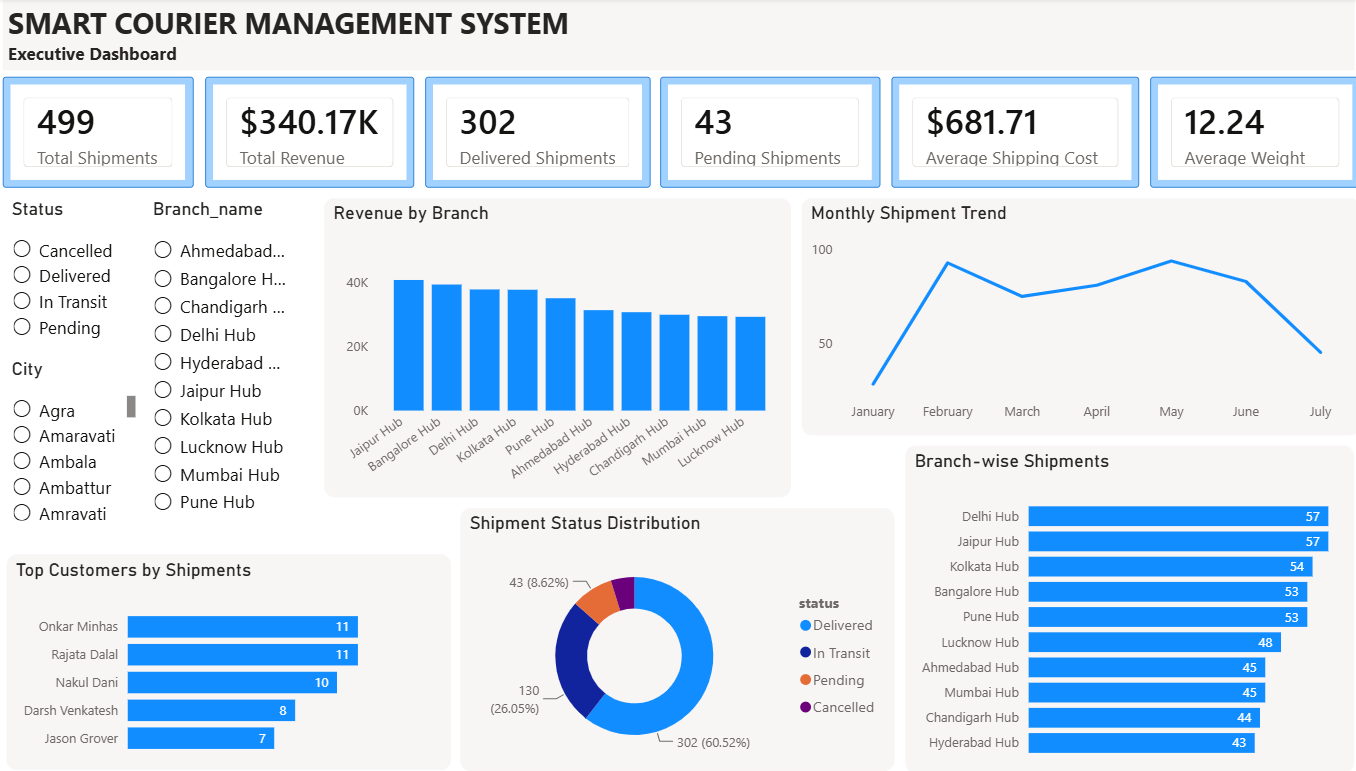

The dashboard page shown, as its layout file describes it:
{"tool":"powerbi","page":{"name":"Page 1","canvas":[1280,720],"ordinal":0},"visuals":[{"type":"cardVisual","fields":{"Data":["courierdb shipments.Total Shipments"]},"box":[17.8,70.2,195,101.8],"z":0},{"type":"cardVisual","fields":{"Data":["courierdb shipments.Total Revenue"]},"box":[219.3,71.6,194.3,98.9],"z":1000},{"type":"cardVisual","fields":{"Data":["courierdb shipments.Delivered Shipments"]},"box":[420.2,70.2,209.3,101.8],"z":2000},{"type":"cardVisual","fields":{"Data":["courierdb shipments.Pending Shipments"]},"box":[636,68.8,205,104.7],"z":3000},{"type":"cardVisual","fields":{"Data":["courierdb shipments.Average Shipping Cost"]},"box":[847.6,68.8,230.8,104.7],"z":4000},{"type":"cardVisual","fields":{"Data":["courierdb shipments.Average Weight"]},"box":[1085,68.8,195,104.7],"z":5000},{"type":"donutChart","title":"Shipment Status Distribution","fields":{"Category":["courierdb shipments.status"],"Y":["CountNonNull(courierdb shipments.shipment_id)"]},"box":[443,474.6,404.3,245.2],"z":6000},{"type":"clusteredBarChart","title":"Branch-wise Shipments","fields":{"Category":["courierdb branches.branch_name"],"Y":["CountNonNull(courierdb shipments.shipment_id)"]},"box":[856.7,425.9,417.5,294.4],"z":7000},{"type":"clusteredColumnChart","title":"Revenue by Branch","fields":{"Category":["courierdb branches.branch_name"],"Y":["Sum(courierdb shipments.shipping_cost)"]},"box":[316.1,185.8,434.4,278.7],"z":8000},{"type":"barChart","title":"Top Customers by Shipments","fields":{"Category":["courierdb customers.customer_name"],"Y":["CountNonNull(courierdb shipments.shipment_id)"]},"box":[20.5,526.1,413.9,193.1],"z":9000},{"type":"lineChart","title":"Monthly Shipment Trend","fields":{"Category":["courierdb shipments.booking_date.Variation.Date Hierarchy.Month"],"Y":["CountNonNull(courierdb shipments.shipment_id)"]},"box":[760.2,185.8,520.1,230.5],"z":10000},{"type":"listSlicer","title":"Status","fields":{"Values":["courierdb shipments.status"]},"box":[20.5,173.8,125.5,167.7],"z":11000},{"type":"listSlicer","title":"Branch_name","fields":{"Values":["courierdb branches.branch_name"]},"box":[152,173.8,150.8,343.9],"z":12000},{"type":"listSlicer","title":"City","fields":{"Values":["courierdb customers.city"]},"box":[20.5,351.1,125.5,166.5],"z":13000},{"type":"textbox","box":[16.9,0,1257.3,67.6],"z":14000}]}

Visuals, with their boxes in screenshot pixels (x1, y1, x2, y2), scaled from the page's 1280x720 canvas onto the 1356x771 screenshot:
cardVisual - courierdb shipments.Total Shipments: x1=19, y1=75, x2=225, y2=184
cardVisual - courierdb shipments.Total Revenue: x1=232, y1=77, x2=438, y2=183
cardVisual - courierdb shipments.Delivered Shipments: x1=445, y1=75, x2=667, y2=184
cardVisual - courierdb shipments.Pending Shipments: x1=674, y1=74, x2=891, y2=186
cardVisual - courierdb shipments.Average Shipping Cost: x1=898, y1=74, x2=1142, y2=186
cardVisual - courierdb shipments.Average Weight: x1=1149, y1=74, x2=1355, y2=186
"Shipment Status Distribution" donutChart: x1=469, y1=508, x2=898, y2=770
"Branch-wise Shipments" clusteredBarChart: x1=908, y1=456, x2=1350, y2=770
"Revenue by Branch" clusteredColumnChart: x1=335, y1=199, x2=795, y2=497
"Top Customers by Shipments" barChart: x1=22, y1=563, x2=460, y2=770
"Monthly Shipment Trend" lineChart: x1=805, y1=199, x2=1355, y2=446
"Status" listSlicer: x1=22, y1=186, x2=155, y2=366
"Branch_name" listSlicer: x1=161, y1=186, x2=321, y2=554
"City" listSlicer: x1=22, y1=376, x2=155, y2=554
textbox: x1=18, y1=0, x2=1350, y2=72
